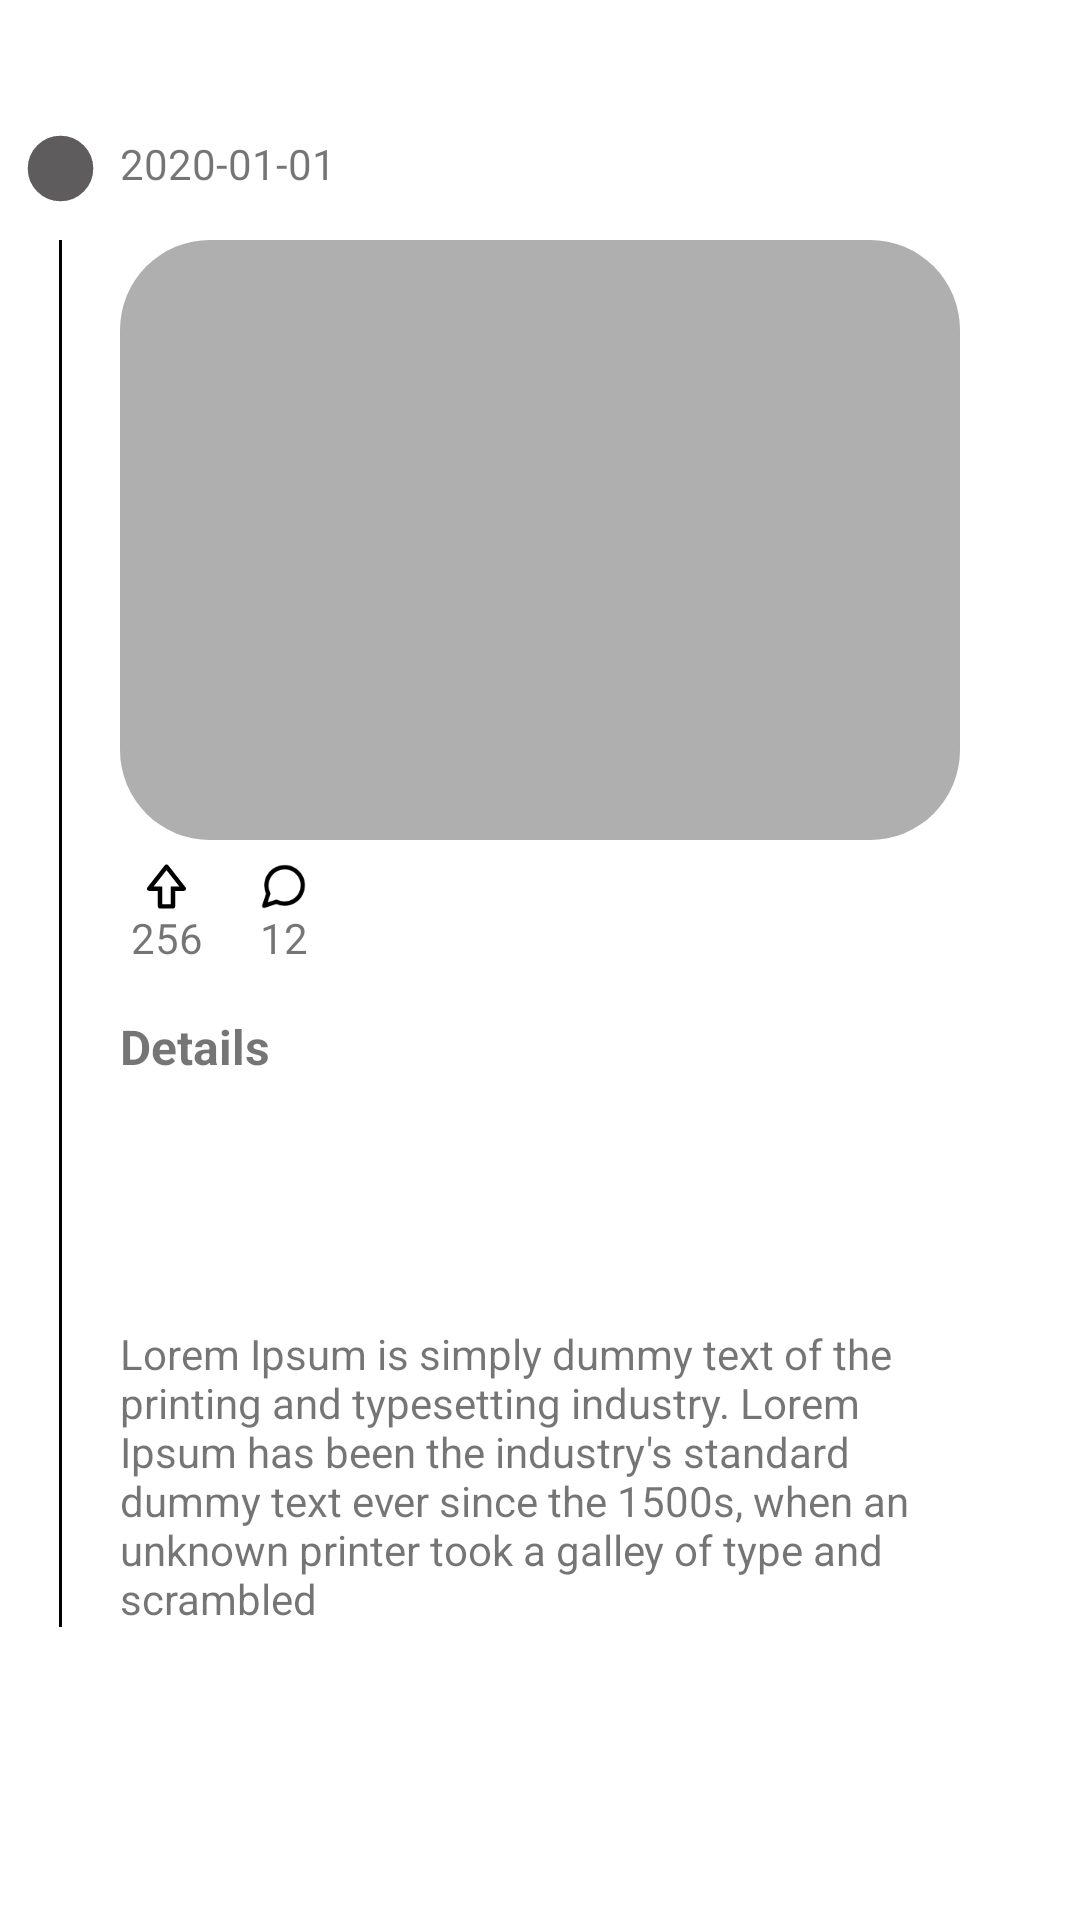

Screen size 1080*1920. Icon name, then its box in pixels as (x1, y1, x2, y2):
comments: (262, 865, 305, 909)
upvote: (147, 864, 186, 909)
